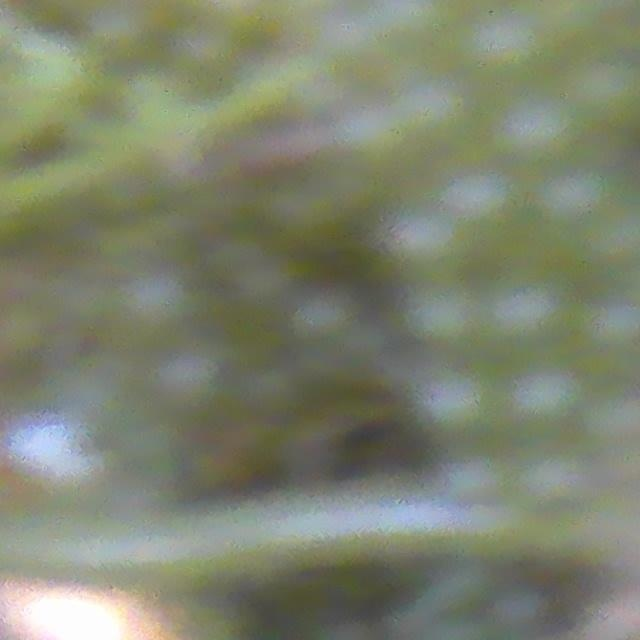SeaGrape: (481, 275, 575, 361), (497, 368, 588, 449), (434, 169, 527, 246), (400, 289, 490, 367), (413, 365, 496, 445), (463, 5, 547, 82), (504, 99, 585, 174), (539, 164, 618, 236), (572, 52, 640, 132), (387, 214, 467, 281), (520, 444, 595, 512), (398, 82, 472, 148), (374, 0, 455, 59)
